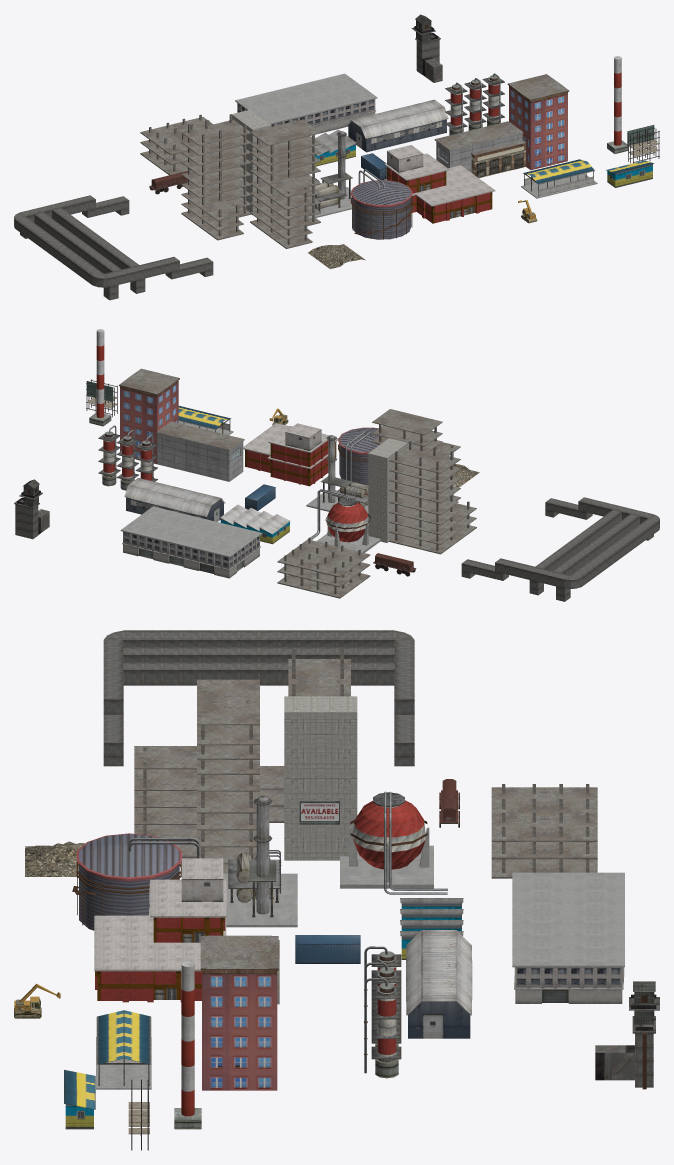
Rendered from industrial area.fbx.
3 views of the same model, one above another, from view 1: azimuth 30°, elevation 25°; view 2: azimuth 150°, elevation 25°; view 3: azimuth 270°, elevation 25° (orthographic). The views are drawn at different scales.
Parts seen in each view (by area): view 1: Factory_e, Fence_O, Props_construction003, Props_cons_G001, Industrial_G001, Industrial_H006, Industrial_Y011, Industrial_D002, Industrial_AA004, Props_constructiob_b, Inductrial_E003, Industrial_R005 (+8 smaller); view 2: Props_construction003, Fence_O, Factory_e, Industrial_H006, Industrial_G001, Props_constructiob_b, Industrial_D002, Industrial_X010, Props_cons_G001, Industrial_AA004, Industrial_Y011, Industrial_R005 (+7 smaller); view 3: Fence_O, Props_cons_G001, Props_construction003, Industrial_H006, Industrial_G001, Factory_e, Props_constructiob_b, Industrial_X010, Industrial_Y011, Industrial_D002, Industrial_R005, Inductrial_E003 (+9 smaller).
Boxes of the visible parts, left/top/right/bottom form: Factory_e: left=434, top=74, right=569, bottom=178; Fence_O: left=14, top=195, right=213, bottom=300; Props_construction003: left=181, top=109, right=271, bottom=240; Props_cons_G001: left=250, top=119, right=320, bottom=248; Industrial_G001: left=384, top=145, right=495, bottom=223; Industrial_H006: left=235, top=73, right=377, bottom=133; Industrial_Y011: left=350, top=169, right=413, bottom=239; Industrial_D002: left=347, top=99, right=448, bottom=152; Industrial_AA004: left=445, top=73, right=504, bottom=135; Props_constructiob_b: left=140, top=114, right=212, bottom=175; Inductrial_E003: left=521, top=159, right=597, bottom=198; Industrial_R005: left=307, top=131, right=352, bottom=218; Props_construction003: left=368, top=438, right=476, bottom=554; Fence_O: left=461, top=497, right=659, bottom=601; Factory_e: left=119, top=368, right=244, bottom=481; Industrial_H006: left=120, top=506, right=262, bottom=578; Industrial_G001: left=243, top=423, right=338, bottom=486; Props_constructiob_b: left=277, top=537, right=370, bottom=598; Industrial_D002: left=124, top=478, right=225, bottom=521; Industrial_X010: left=310, top=489, right=380, bottom=552; Props_cons_G001: left=372, top=409, right=460, bottom=500; Industrial_AA004: left=98, top=425, right=157, bottom=490; Industrial_Y011: left=338, top=427, right=378, bottom=485; Industrial_R005: left=306, top=435, right=368, bottom=515; Fence_O: left=103, top=630, right=414, bottom=766; Props_cons_G001: left=134, top=679, right=259, bottom=873; Props_construction003: left=260, top=649, right=357, bottom=860; Industrial_H006: left=512, top=872, right=624, bottom=1003; Industrial_G001: left=94, top=858, right=226, bottom=1002; Factory_e: left=200, top=935, right=279, bottom=1090; Props_constructiob_b: left=491, top=784, right=597, bottom=878; Industrial_X010: left=340, top=791, right=447, bottom=894; Industrial_Y011: left=72, top=833, right=199, bottom=930; Industrial_D002: left=406, top=930, right=472, bottom=1038; Industrial_R005: left=223, top=796, right=297, bottom=927; Inductrial_E003: left=96, top=1010, right=151, bottom=1089.
Size of the model in its own units: 352 by 56.46 by 200.
